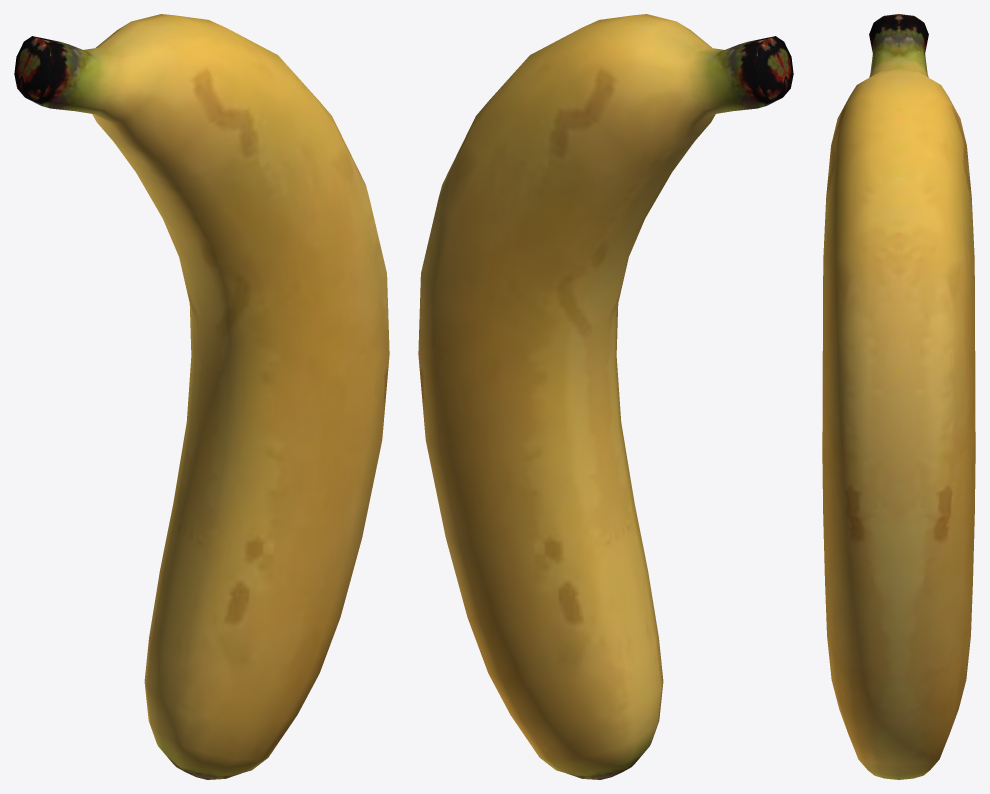
3 views of the same model, side by side, from view 1: azimuth 30°, elevation 25°; view 2: azimuth 150°, elevation 25°; view 3: azimuth 270°, elevation 25° (orthographic). The views are drawn at different scales.
Visible parts, largest first — view 1: body0_model0_lod0_mesh0; view 2: body0_model0_lod0_mesh0; view 3: body0_model0_lod0_mesh0.
Boxes of the visible parts, box(x1,y1,x2,y2) form: body0_model0_lod0_mesh0: box(14, 14, 389, 779); body0_model0_lod0_mesh0: box(418, 14, 793, 779); body0_model0_lod0_mesh0: box(822, 14, 975, 779).
Size of the model in its own units: 8.82 by 18.58 by 3.77.
1 material, 1 textured.
